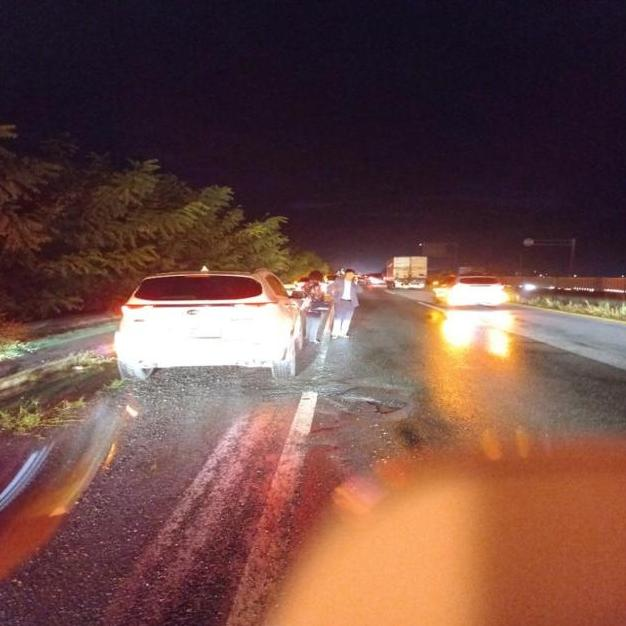pothole: (321, 375, 430, 434)
